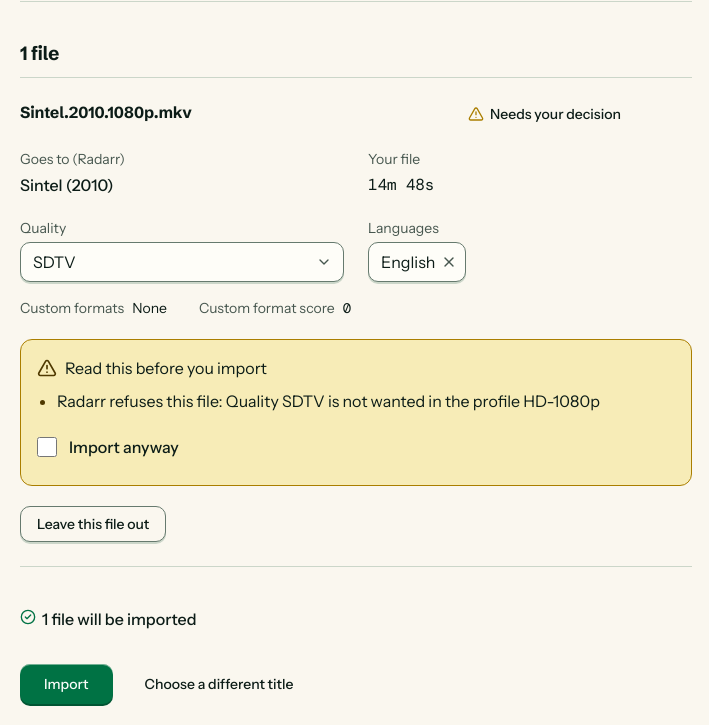
Scenario: overrides only an admin may confirm › offers to leave out the rows of a 403 admin_required
The image size is (709, 725).
(page scrolled)
Click the checkbox labelled "Import anyway": [47, 447] box [37,437,57,457]
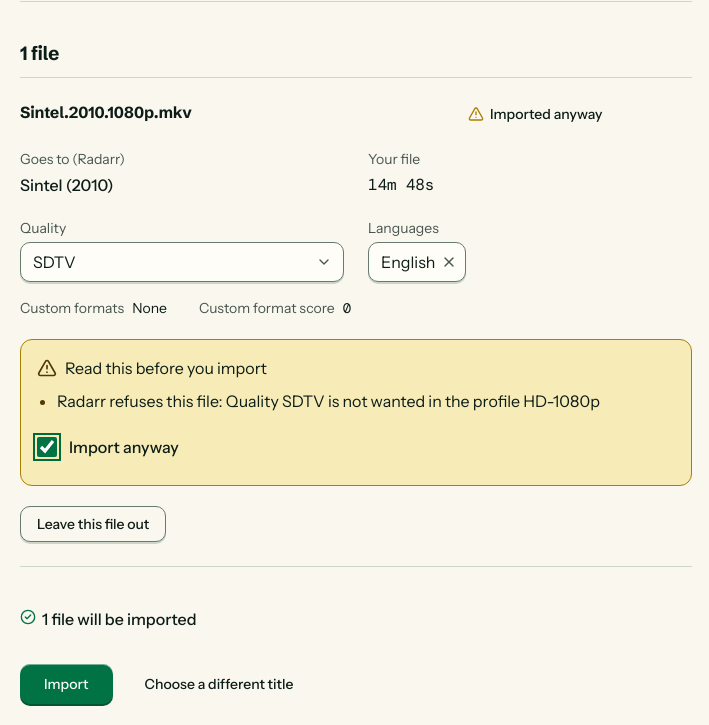
Click the button "Import": [66, 684] box [20,664,112,704]
(page scrolled)
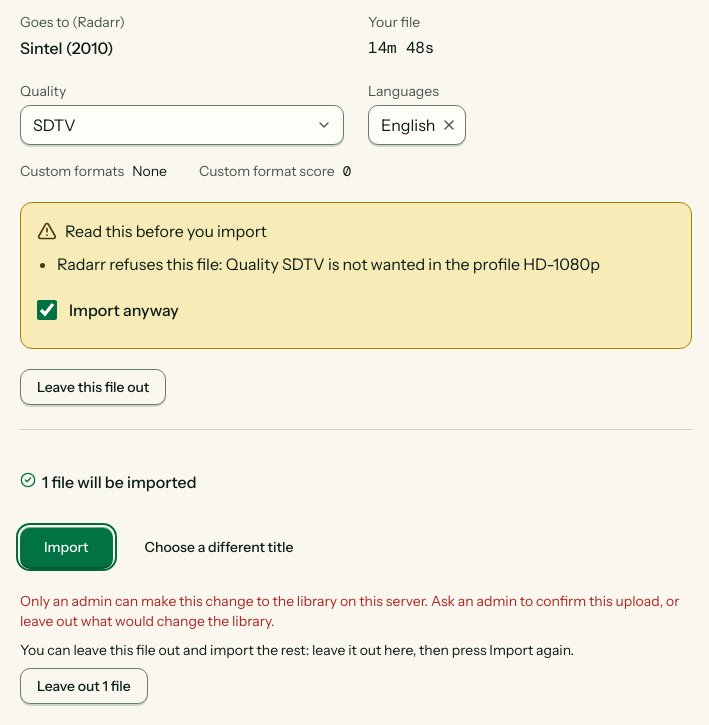
Expected: the text "You can leave this file out and import the rest" is shown, [20,641,574,659]
Click the button "Leave out 1 file": [84, 686] box [20,668,148,704]
(page scrolled)
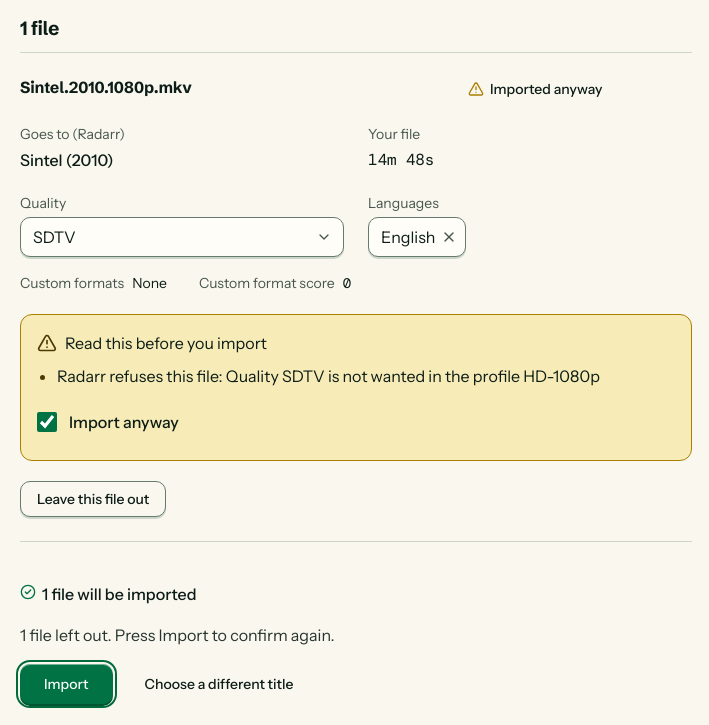
Expected: the text "1 file left out. Press Import to confirm again." is shown, [20,625,334,645]
